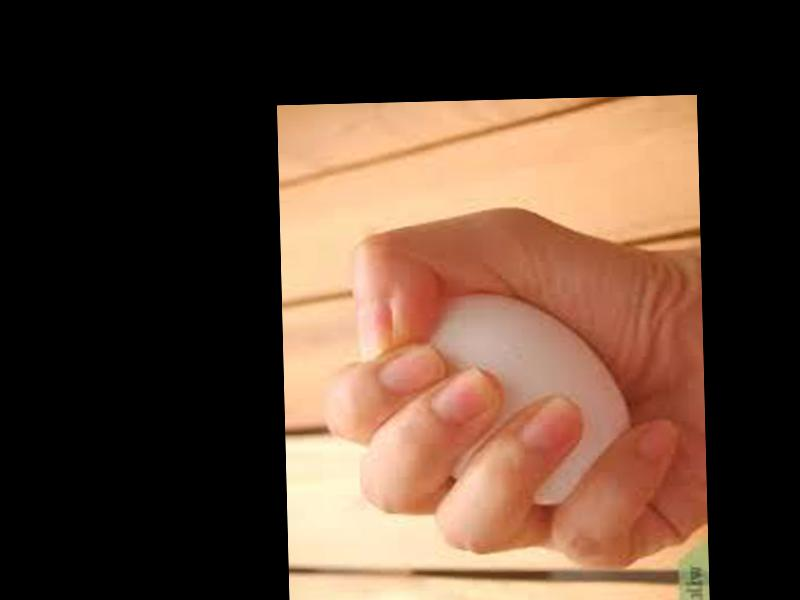Eggs: (406, 290, 631, 511)
